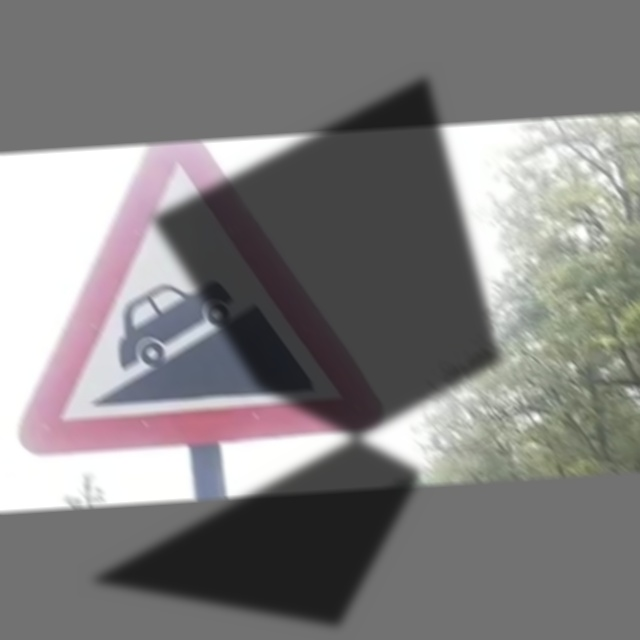Steep_Ascent: (38, 170, 360, 452)
